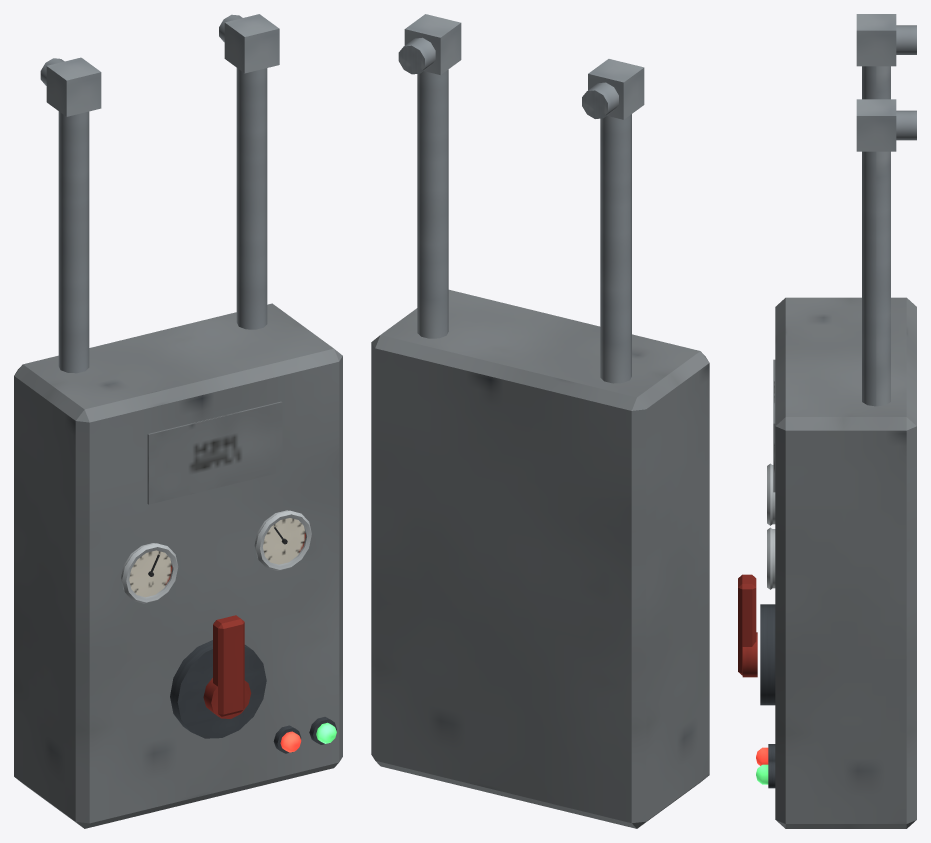
Rendered from prison_supply.fbx.
3 renders of one model, left to right at view 1: azimuth 30°, elevation 25°; view 2: azimuth 150°, elevation 25°; view 3: azimuth 270°, elevation 25°, orthographic. The views are drawn at different scales.
Visible parts, largest first — view 1: prison_supply, prison_supply_handle; view 2: prison_supply; view 3: prison_supply, prison_supply_handle.
Boxes of the visible parts, x1,y1,x2,y2 form: prison_supply: (14,14,342,828); prison_supply_handle: (203,615,251,718); prison_supply: (371,14,709,828); prison_supply: (760,14,916,828); prison_supply_handle: (738,574,757,677).
Bounding box in the file's own units: 0.6 × 1.54 × 0.354.
Materials: 1 (1 with a texture image).
